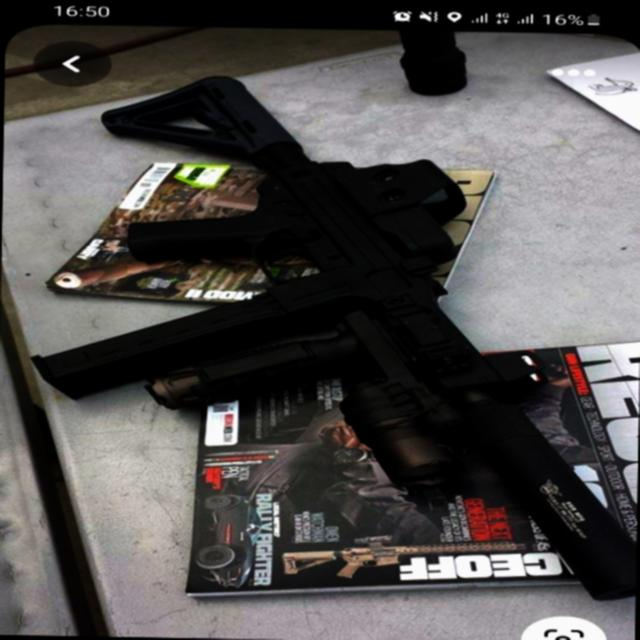m16: (68, 93, 574, 527)
